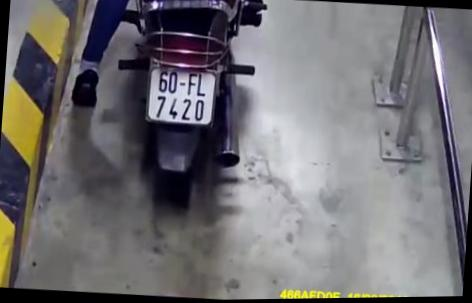LP: (142, 64, 220, 132)
